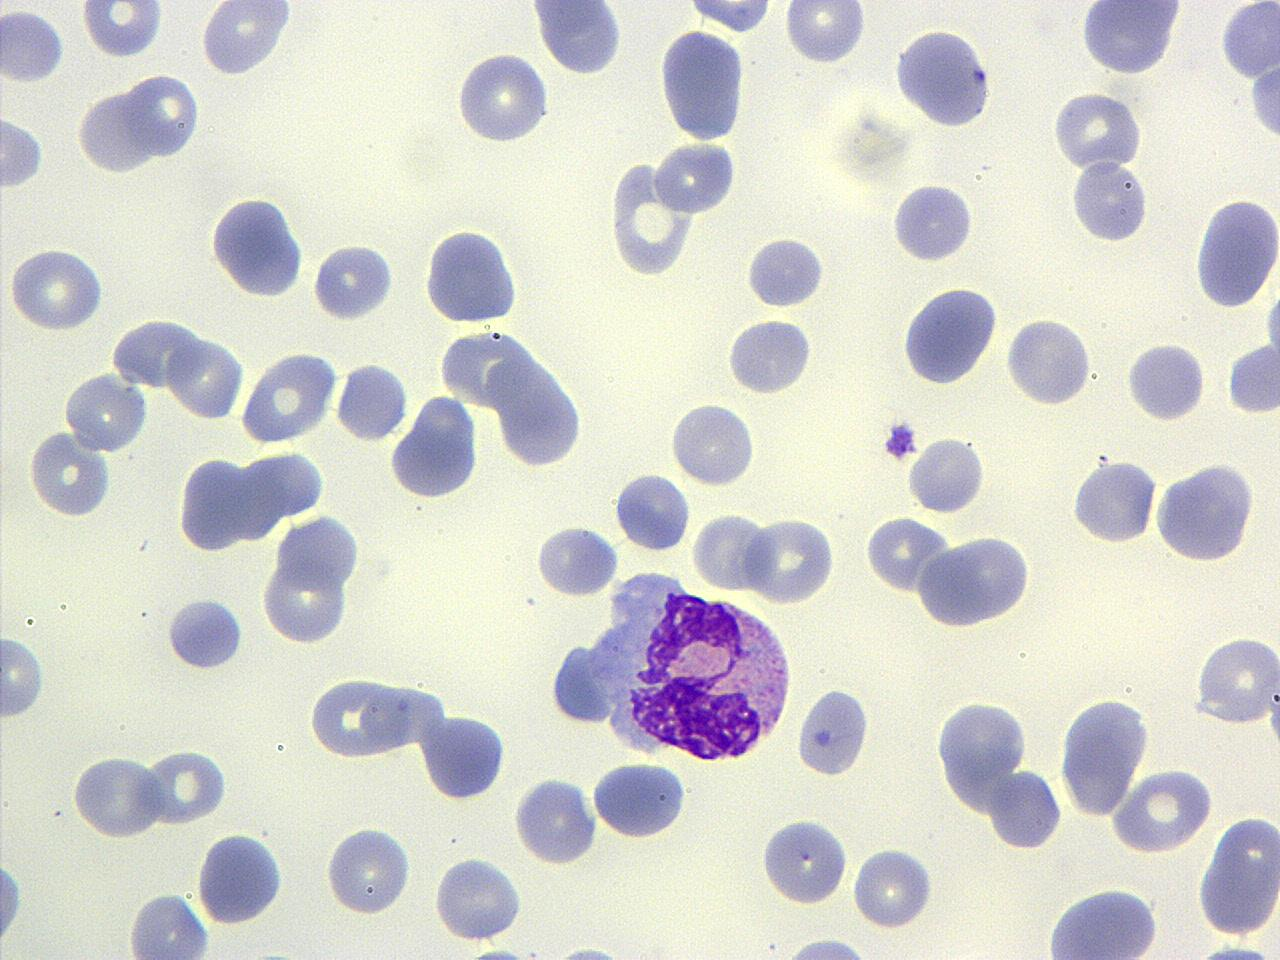Platelets: (309, 238, 400, 322), (795, 682, 871, 781), (890, 179, 979, 263), (164, 592, 247, 675), (744, 232, 833, 309), (906, 433, 987, 514), (653, 139, 739, 216), (78, 3, 162, 59), (1225, 342, 1279, 418), (0, 853, 28, 954), (881, 418, 917, 462), (1197, 940, 1275, 960), (554, 940, 622, 960), (467, 942, 529, 960)
RBC: (1055, 694, 1153, 818), (1197, 808, 1279, 942), (1191, 190, 1280, 310), (387, 392, 482, 502), (453, 47, 552, 148), (239, 348, 339, 446), (1111, 764, 1215, 856), (321, 822, 415, 918), (69, 747, 166, 839), (5, 245, 106, 334), (757, 812, 851, 907), (744, 512, 838, 606), (308, 674, 404, 764), (1002, 314, 1093, 408), (1190, 632, 1280, 728), (431, 853, 524, 944), (25, 428, 116, 519), (260, 554, 348, 646), (440, 327, 536, 411), (668, 397, 759, 486), (421, 709, 508, 802), (850, 840, 936, 932), (1050, 89, 1146, 171), (175, 454, 252, 556), (123, 70, 203, 161), (1124, 337, 1208, 423), (74, 87, 153, 177), (690, 508, 774, 594), (144, 744, 230, 828), (63, 369, 150, 452), (370, 674, 451, 762), (532, 520, 622, 600), (112, 314, 205, 390), (863, 512, 945, 596), (907, 431, 987, 517), (167, 333, 244, 421), (654, 136, 736, 218), (612, 470, 690, 554), (334, 359, 409, 443), (122, 888, 212, 958), (782, 0, 866, 68), (0, 6, 67, 84), (80, 1, 164, 61), (0, 632, 48, 722), (0, 112, 48, 191), (683, 0, 779, 35), (0, 844, 26, 956)
WBC: (0, 0, 612, 595), (686, 0, 1280, 452), (0, 0, 359, 222), (546, 562, 799, 768), (928, 690, 1067, 852), (485, 330, 593, 474), (604, 154, 700, 282), (1055, 692, 1153, 818), (916, 529, 1038, 630), (1152, 456, 1260, 567), (207, 189, 310, 301), (897, 281, 1004, 388), (1197, 806, 1280, 944), (420, 221, 526, 327), (656, 26, 750, 144), (263, 534, 360, 648), (892, 23, 994, 130), (240, 347, 345, 448), (1190, 192, 1278, 312), (1217, 0, 1280, 162), (389, 392, 482, 502), (193, 828, 287, 927), (321, 823, 416, 919), (1042, 884, 1162, 960), (758, 810, 850, 908), (590, 756, 692, 842), (68, 750, 164, 840), (1068, 454, 1160, 548), (511, 772, 600, 868), (724, 312, 820, 398), (1076, 2, 1186, 78), (422, 707, 507, 804), (794, 680, 873, 782), (196, 2, 299, 78), (176, 451, 252, 554), (890, 178, 976, 266), (311, 239, 400, 324), (1124, 335, 1208, 424), (528, 1, 628, 75), (63, 368, 149, 454), (1068, 159, 1152, 246), (534, 518, 620, 600), (744, 230, 828, 310), (165, 592, 247, 674), (334, 358, 410, 444), (124, 886, 212, 959), (0, 6, 67, 86), (1224, 340, 1280, 418), (678, 0, 786, 33), (0, 841, 26, 959), (774, 935, 880, 960)
